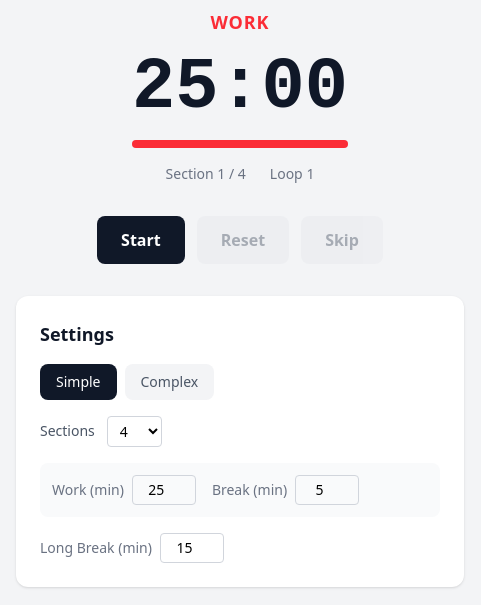
Test case: TimerPage › Startをクリックするとタイマーが開始する
Click the button "Start": point(141, 240) [97,216,185,264]
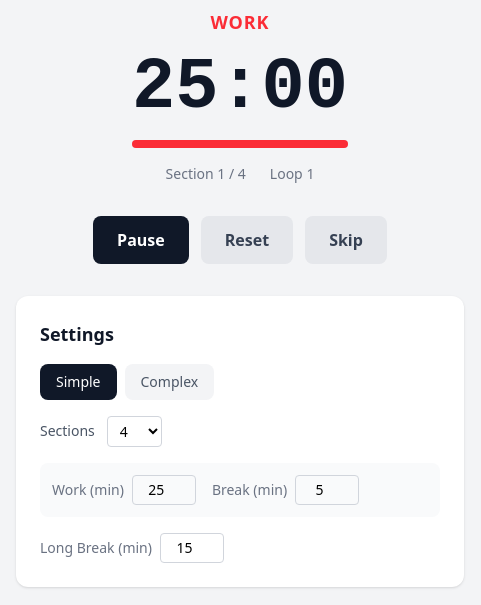
expect the button "Pause" is shown: met, box [93,216,189,264]
